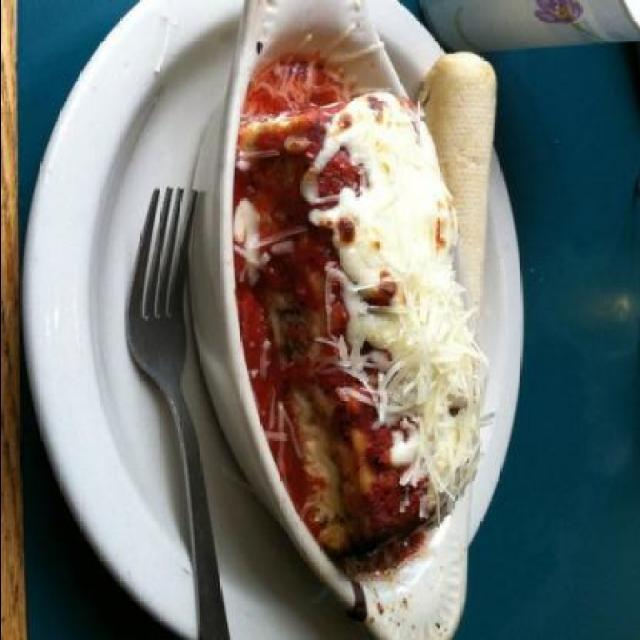Lasagna: (231, 59, 474, 572)
